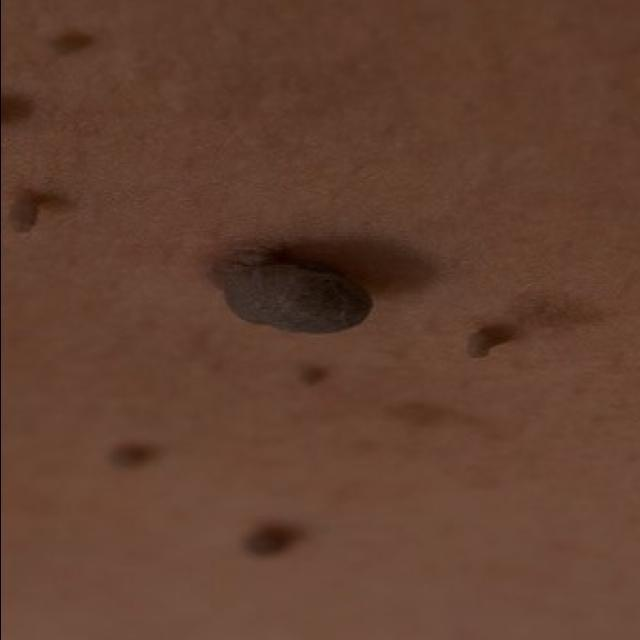wart: (188, 173, 438, 354), (0, 173, 84, 274), (461, 305, 529, 379), (0, 72, 40, 158)
